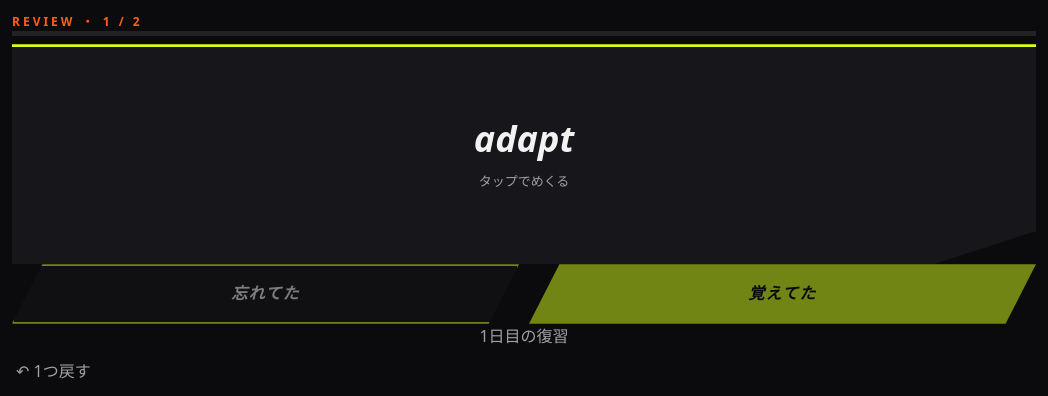
Test: Review › めくる前は判定ボタンが無効で、めくると押せる
Expected: the text "REVIEW ・ 1 / 2" is shown, [12,13,143,30]
Expected: the text "1日目の復習" is shown, [479,325,569,347]
Step 1. Click the button "adapt タップでめくる" → (73, 154), box [12,44,1036,264]
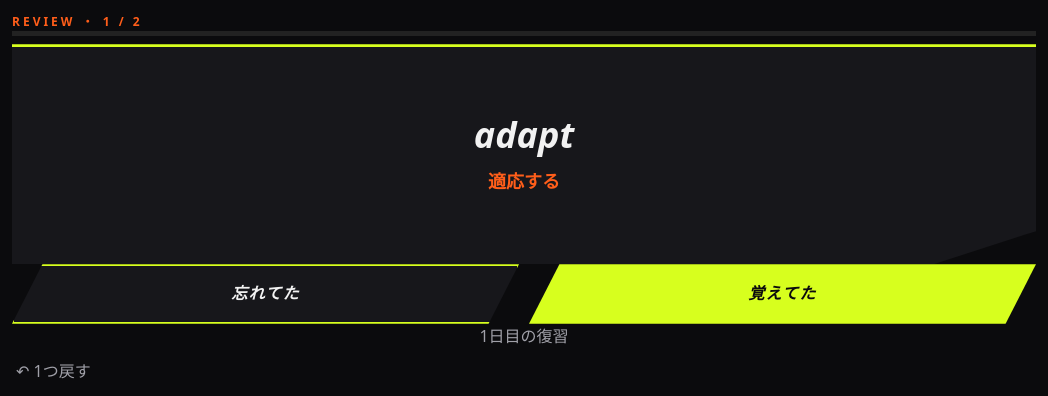
Now the button "覚えてた" is enabled, box [529,264,1036,324]
